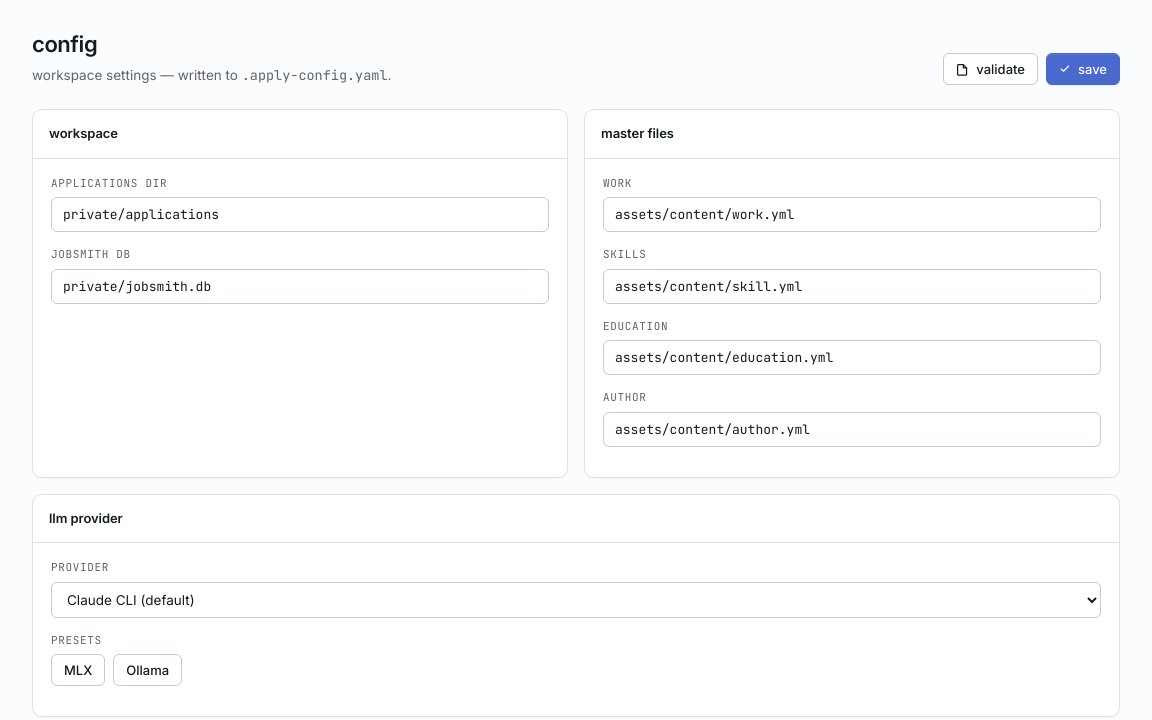
Test: ConfigView — LLM provider section › MLX preset button fills base_url and switches provider to openai_compatible
The width and height of the screenshot is (1152, 720).
Expected: the 2nd field showing "assets/content/work.yml" is shown, 603,197 -> 1101,232
Click the button "MLX".
click(78, 670)  # box 51,654 -> 105,686
(page scrolled)
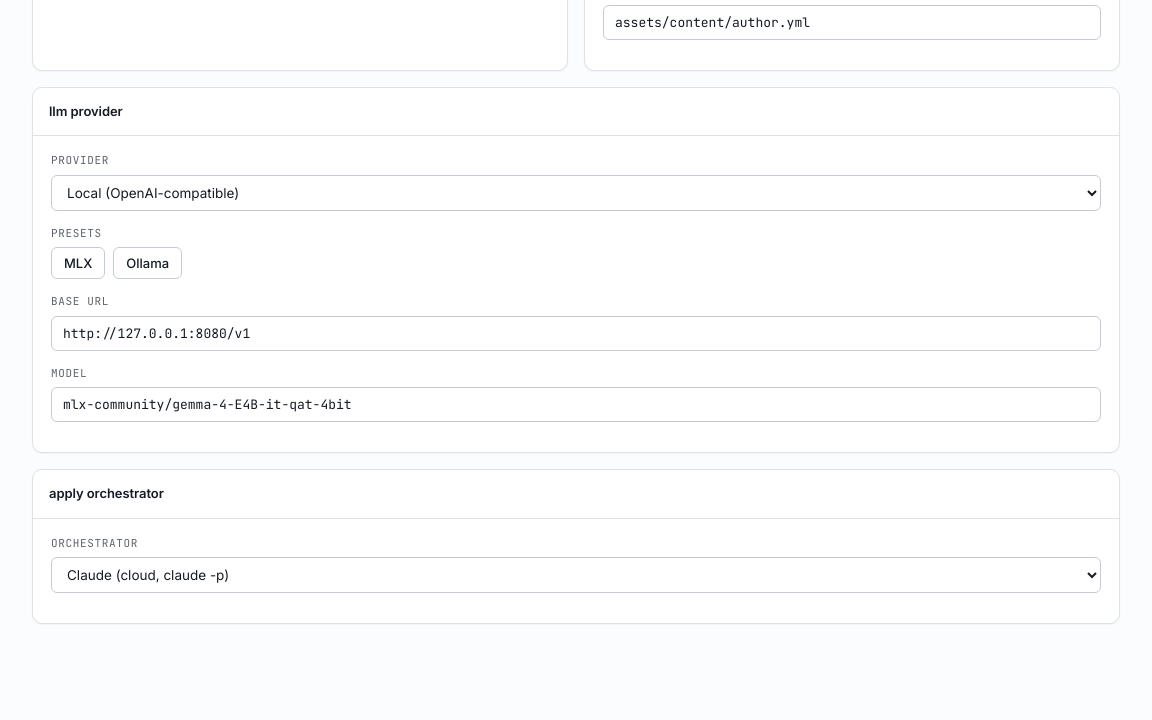
Expected: the dropdown labelled "provider" shows "Local (OpenAI-compatible)", 51,175 -> 1101,211
Expected: the field showing "http://127.0.0.1:8080/v1" is shown, 51,316 -> 1101,351
Expected: the field showing "mlx-community/gemma-4-E4B-it-qat-4bit" is shown, 51,387 -> 1101,422
